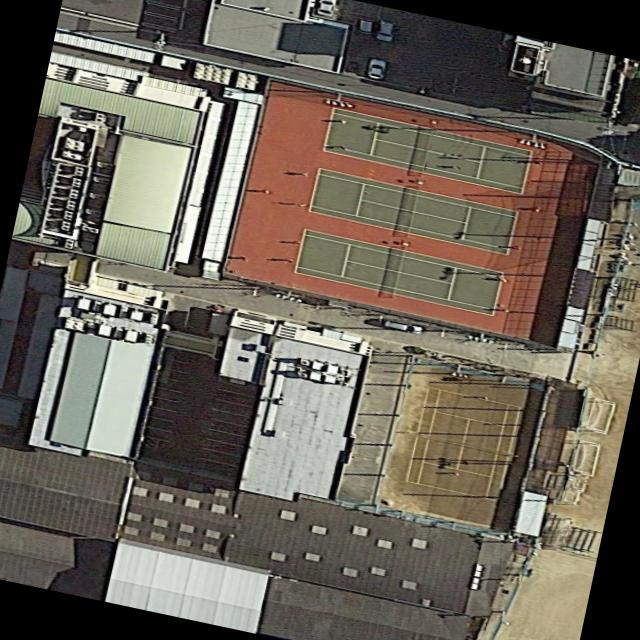small-vehicle: (379, 318, 423, 336), (373, 17, 398, 43), (364, 58, 388, 81), (315, 0, 337, 19), (355, 17, 372, 35)
